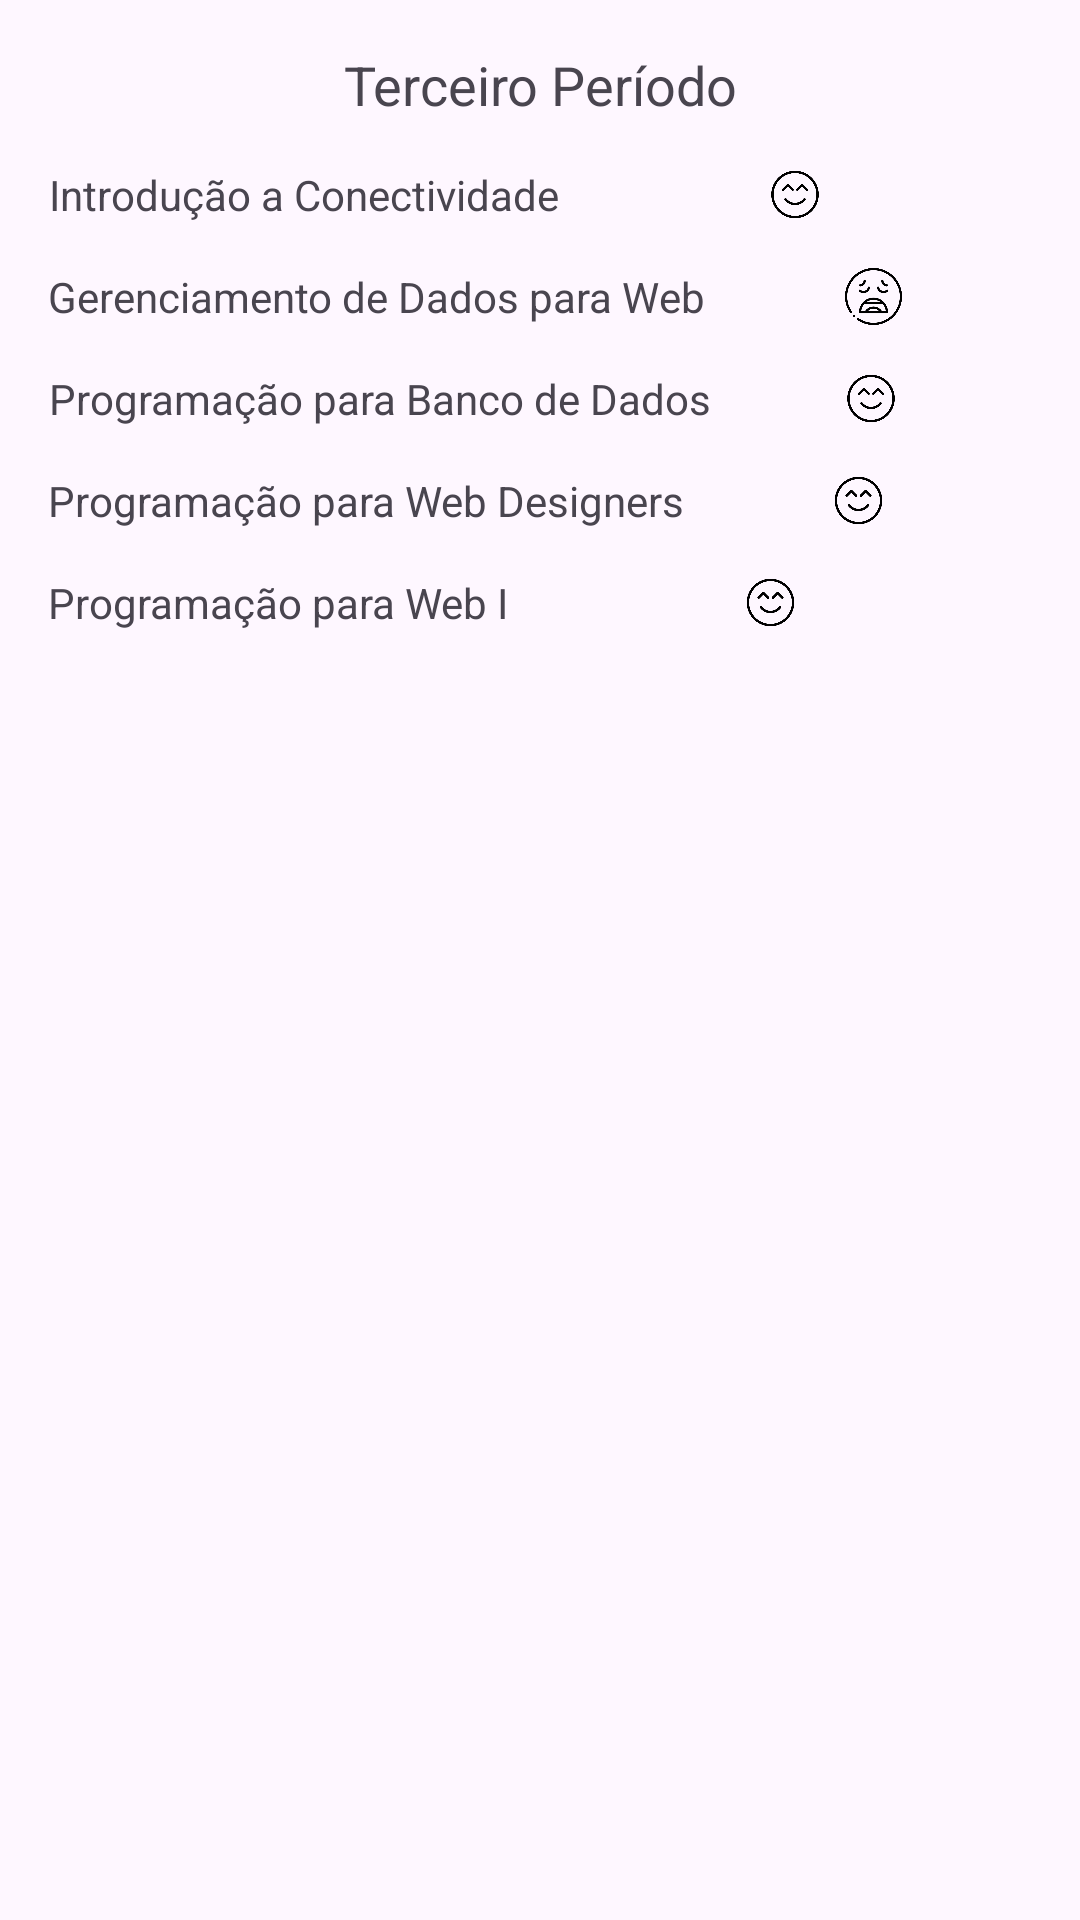

Screen size 1080x1920. Icon name, then its center in pixels as (x=x, y=y):
smiling face with eyes: (x=795, y=194), (x=871, y=398), (x=858, y=500), (x=770, y=602)
tired: (x=873, y=296)
